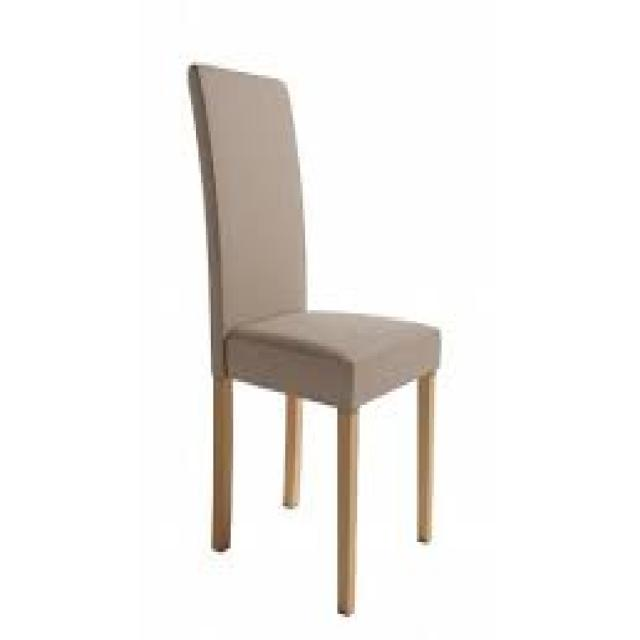bottle: (183, 64, 444, 615)
